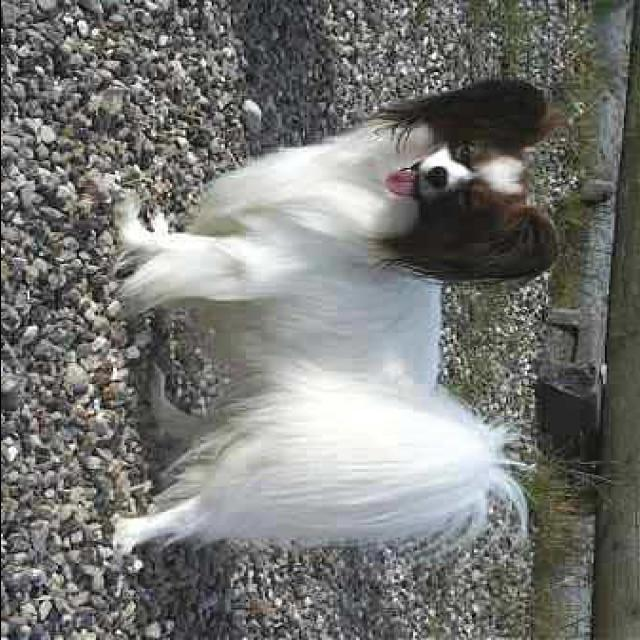papillon: (110, 76, 560, 562)
